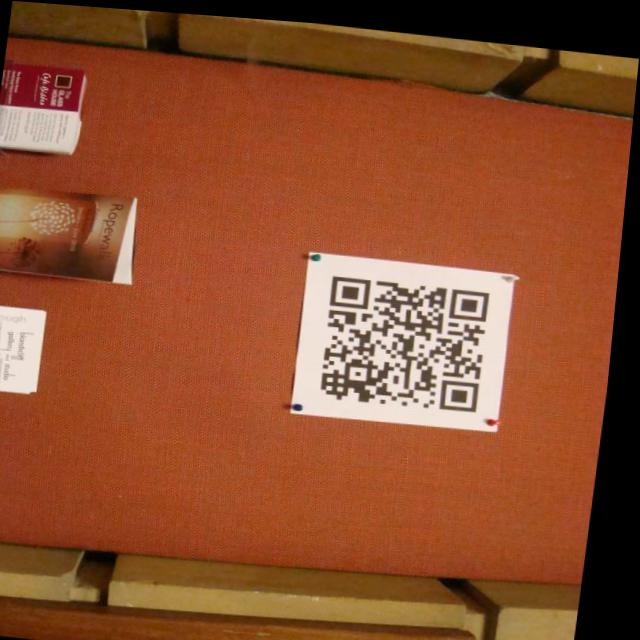qrcode: (324, 272, 497, 407)
